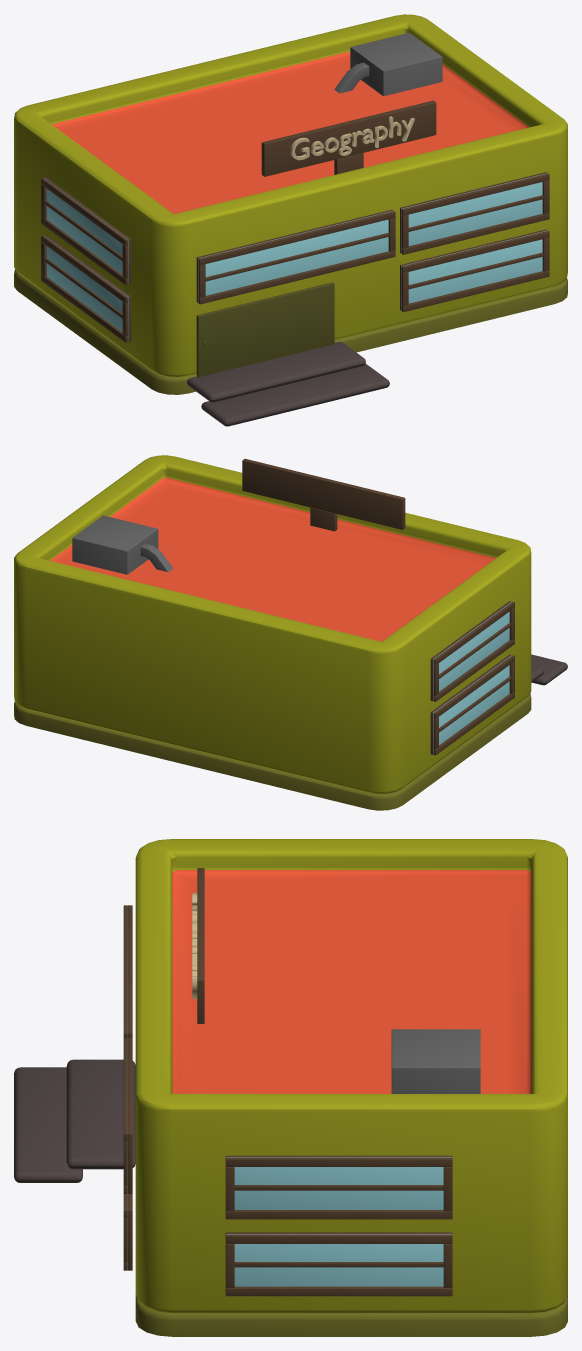
The model's file is Predio_geography_nivel_02.fbx.
3 renders of one model, top to bottom at view 1: azimuth 30°, elevation 25°; view 2: azimuth 150°, elevation 25°; view 3: azimuth 270°, elevation 25°, orthographic. The views are drawn at different scales.
Visible parts, largest first — view 1: Predio_geography_nivel_02, Janelas_predio_Geo_02, Texto_Geo_nivel_02; view 2: Predio_geography_nivel_02, Janelas_predio_Geo_02; view 3: Predio_geography_nivel_02, Janelas_predio_Geo_02, Texto_Geo_nivel_02.
Boxes of the visible parts, left/top/right/bottom form: Predio_geography_nivel_02: left=14, top=14, right=567, bottom=426; Janelas_predio_Geo_02: left=41, top=32, right=549, bottom=377; Texto_Geo_nivel_02: left=290, top=116, right=414, bottom=160; Predio_geography_nivel_02: left=14, top=455, right=567, bottom=810; Janelas_predio_Geo_02: left=72, top=458, right=514, bottom=755; Predio_geography_nivel_02: left=14, top=839, right=567, bottom=1336; Janelas_predio_Geo_02: left=123, top=868, right=480, bottom=1296; Texto_Geo_nivel_02: left=192, top=893, right=197, bottom=998.
Size of the model in its own units: 1524 by 714 by 1285.
